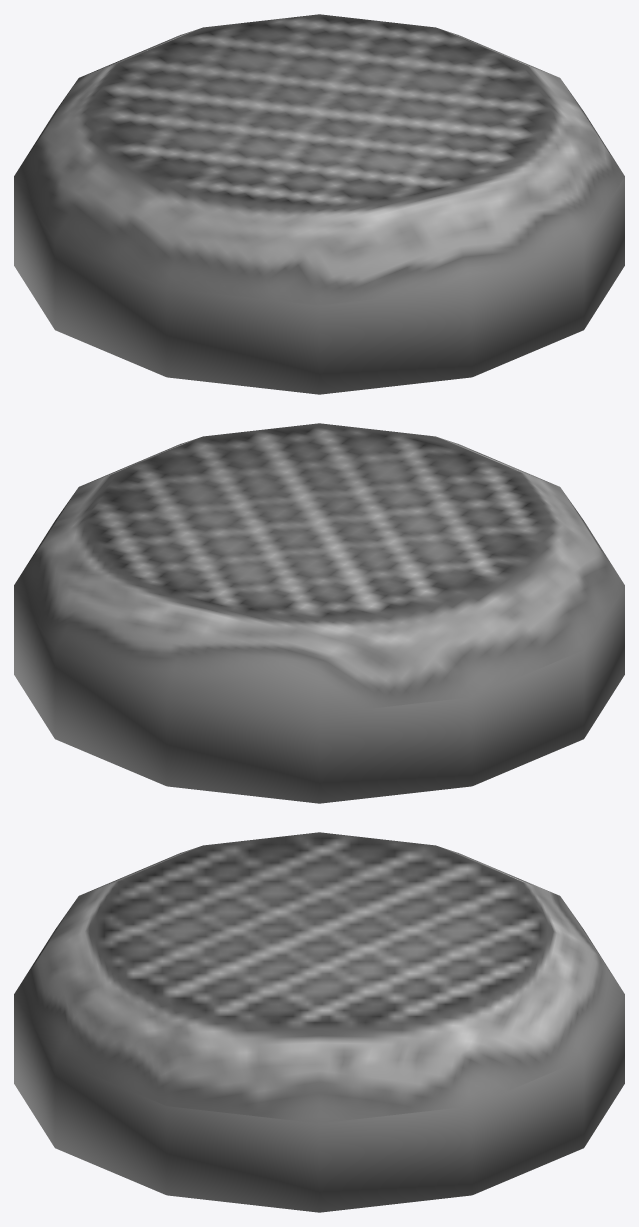
The model's file is GasmaskFilter_Homemade.fbx.
3 views of the same model, one above another, from view 1: azimuth 30°, elevation 25°; view 2: azimuth 150°, elevation 25°; view 3: azimuth 270°, elevation 25° (orthographic).
Visible parts, largest first — view 1: GasmaskFilter_Homemade; view 2: GasmaskFilter_Homemade; view 3: GasmaskFilter_Homemade.
Part boxes in pixels (x1,y1,x2,y2): GasmaskFilter_Homemade: (14,14,624,394); GasmaskFilter_Homemade: (14,423,624,803); GasmaskFilter_Homemade: (14,832,624,1212).
Size of the model in its own units: 0.1562 by 0.0431 by 0.1562.
